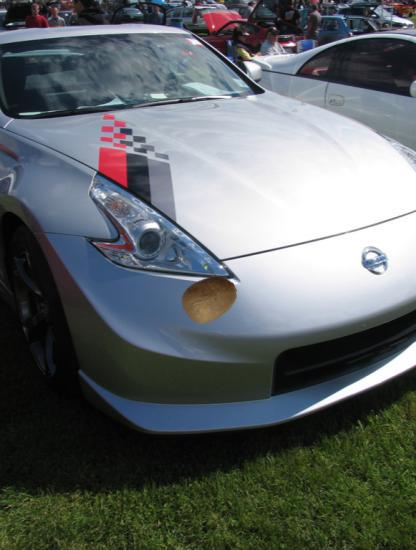Kiwi: (181, 271, 238, 328)
